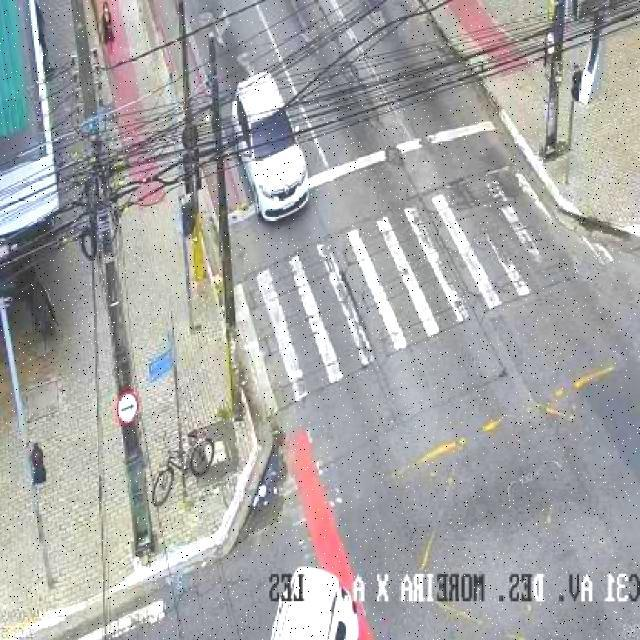Car: (222, 74, 312, 226)
